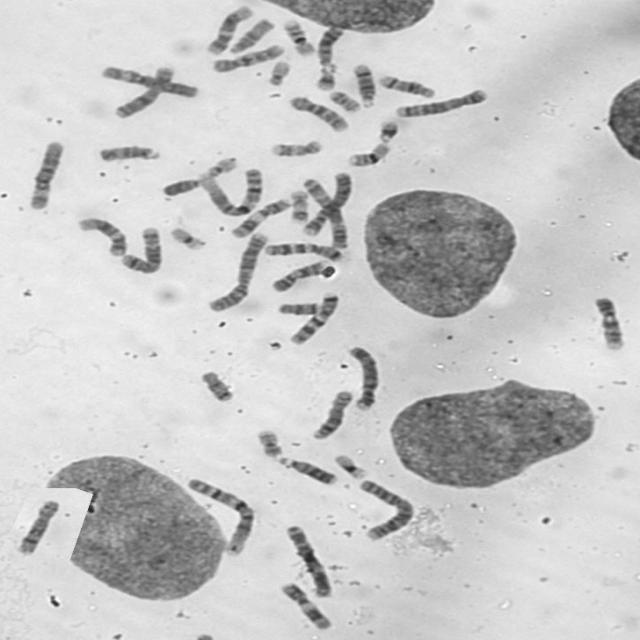A1: (184, 474, 258, 558), (193, 165, 264, 217)
A2: (205, 230, 271, 313), (352, 477, 416, 542)
A3: (299, 172, 352, 249), (282, 522, 333, 598)
B4: (299, 169, 354, 242), (343, 343, 381, 413)
B5: (391, 86, 489, 119), (117, 224, 164, 274)
C10: (286, 93, 351, 133), (208, 41, 286, 74)
C11: (276, 581, 334, 631), (227, 196, 293, 238)
C12: (202, 4, 254, 56), (75, 214, 127, 258)
C6: (97, 62, 201, 100), (25, 138, 66, 212)
C7: (286, 290, 342, 346), (260, 240, 345, 262)
C8: (12, 497, 62, 556), (309, 388, 355, 441)
C9: (267, 258, 334, 293), (591, 294, 626, 352)
D13: (274, 454, 340, 487), (314, 23, 346, 68)
D14: (374, 73, 438, 99), (350, 61, 377, 109)
D15: (225, 16, 276, 55), (93, 142, 164, 164)
E16: (280, 17, 316, 57), (344, 140, 393, 168)
E17: (268, 138, 324, 158), (287, 188, 310, 223)
E18: (197, 367, 236, 403), (274, 301, 322, 316)
F19: (167, 225, 208, 252), (332, 452, 369, 480)
F20: (253, 427, 285, 458), (325, 88, 363, 114)
G21: (313, 67, 338, 92), (375, 118, 399, 143)
G22: (200, 154, 238, 179), (264, 58, 292, 87)
X: (109, 64, 176, 120)
Y: (158, 176, 202, 198)
